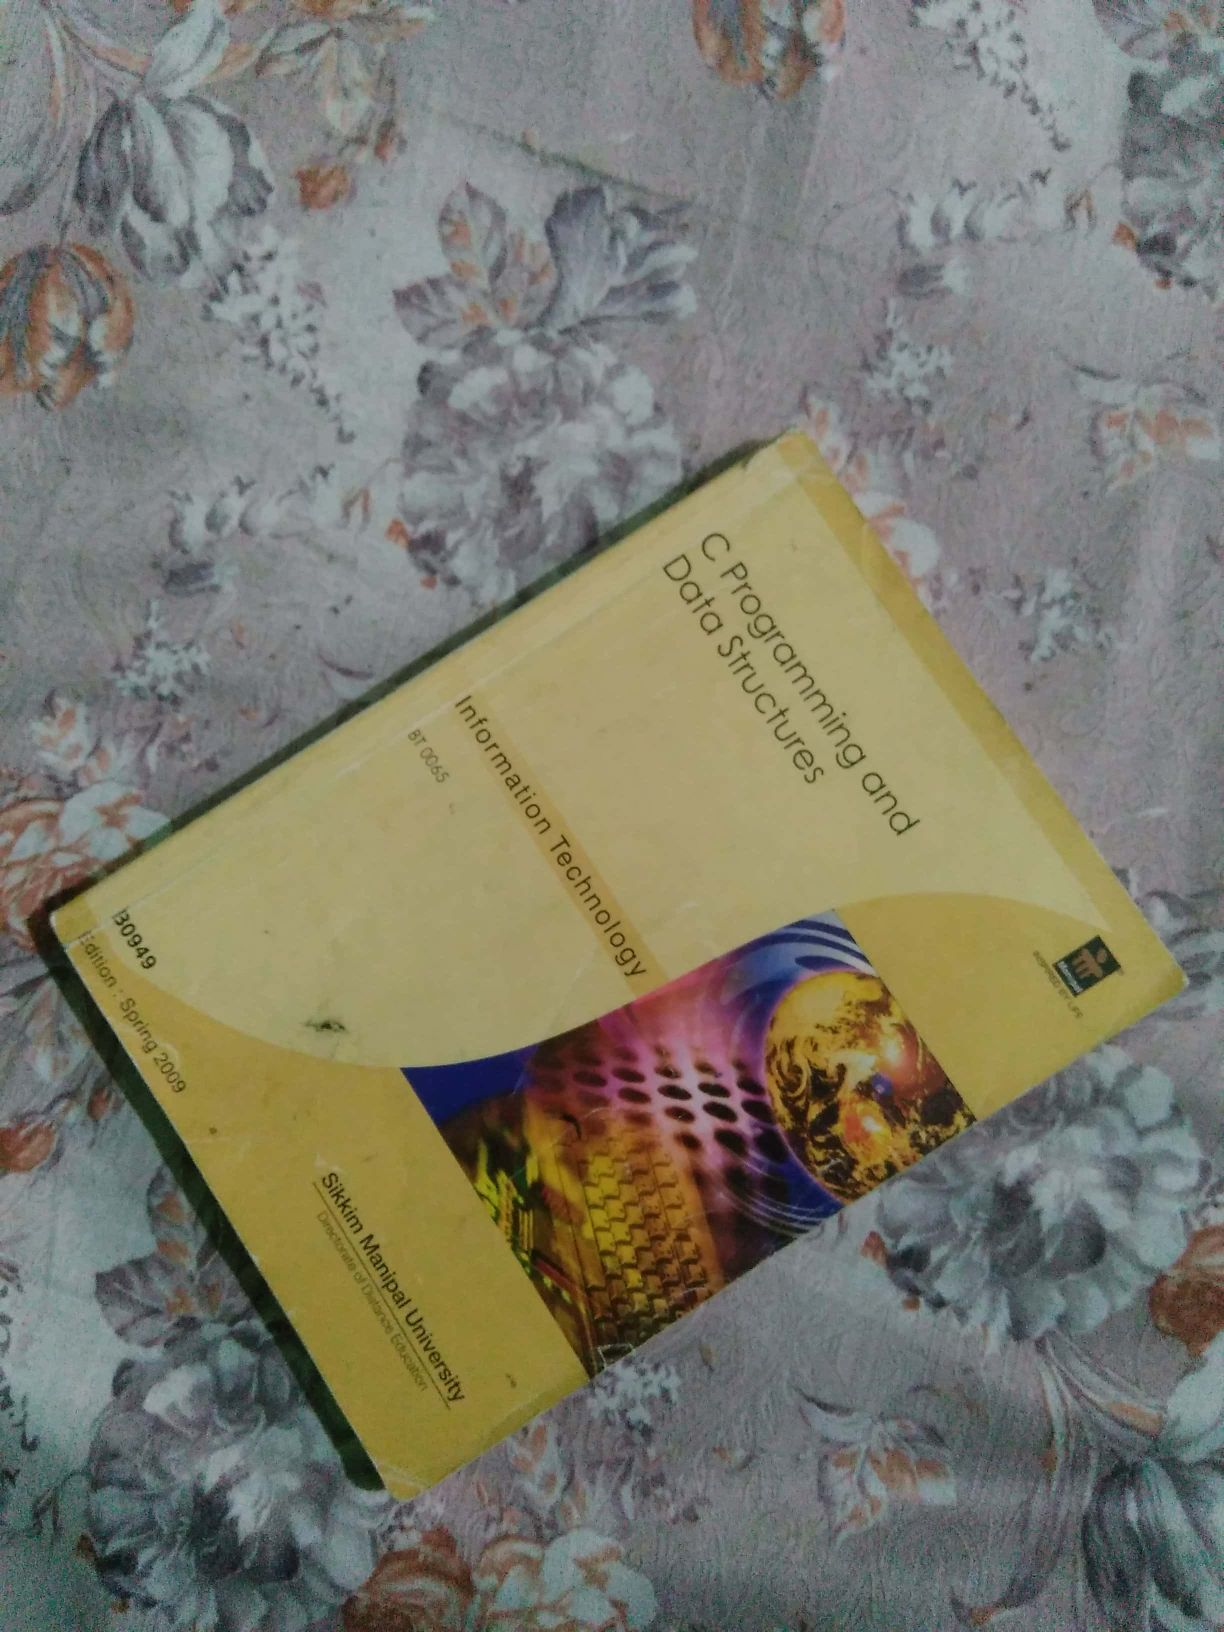clang: (89, 445, 1170, 1473)
